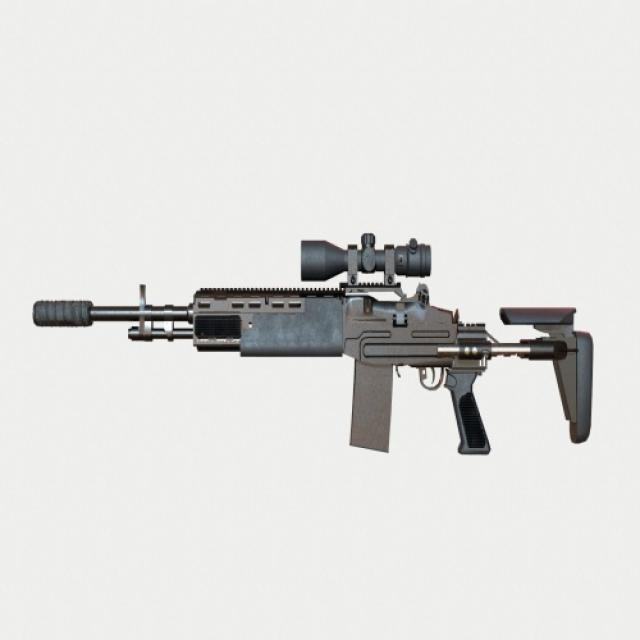Gun: (16, 192, 622, 479)
